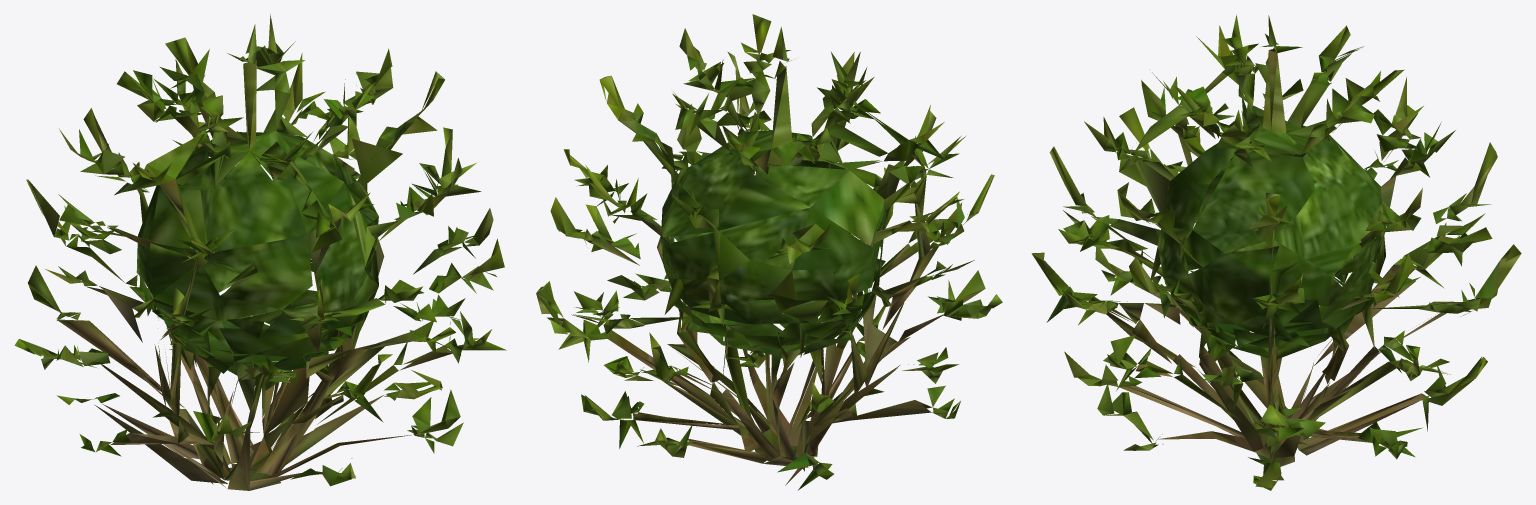
File: arbusto_lod1.glb
3 views of the same model, side by side, from view 1: azimuth 30°, elevation 25°; view 2: azimuth 150°, elevation 25°; view 3: azimuth 270°, elevation 25° (orthographic). The views are drawn at different scales.
Visible parts, largest first — view 1: arbusto; view 2: arbusto; view 3: arbusto.
Part boxes in pixels (x1,y1,x2,y2): arbusto: (14, 14, 506, 490); arbusto: (536, 14, 1002, 490); arbusto: (1031, 14, 1521, 490).
Size of the model in its own units: 1.01 by 1.03 by 1.02.
Materials: 1 (1 with a texture image).
